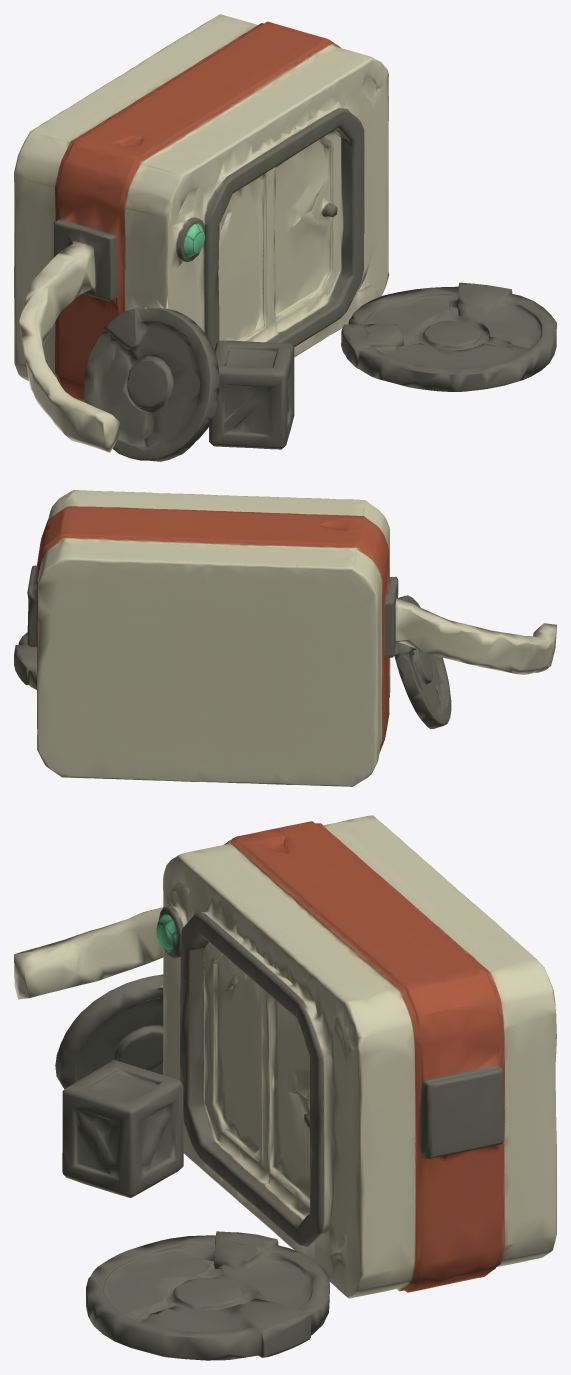
File: dome_wreck2.glb
The picture shows the model from 3 angles, top to bottom: view 1: azimuth 30°, elevation 25°; view 2: azimuth 150°, elevation 25°; view 3: azimuth 270°, elevation 25°; orthographic projection. The views are drawn at different scales.
Visible parts, largest first — view 1: tripo_node_8f0ba0d0-0473-4cac-bce4-1359fd1ad29a; view 2: tripo_node_8f0ba0d0-0473-4cac-bce4-1359fd1ad29a; view 3: tripo_node_8f0ba0d0-0473-4cac-bce4-1359fd1ad29a.
Part boxes in pixels (box(x1,y1,x2,y2)): tripo_node_8f0ba0d0-0473-4cac-bce4-1359fd1ad29a: box(14, 14, 556, 461); tripo_node_8f0ba0d0-0473-4cac-bce4-1359fd1ad29a: box(14, 490, 556, 786); tripo_node_8f0ba0d0-0473-4cac-bce4-1359fd1ad29a: box(14, 815, 556, 1360).
Bounding box in the file's own units: 1 × 0.4561 × 0.7366.
1 material, 1 textured.
